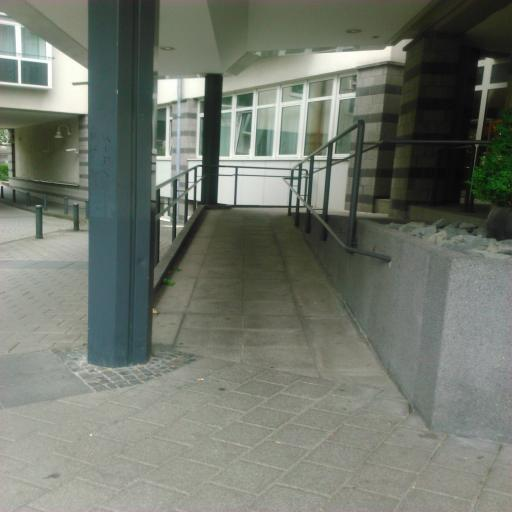ramp: (149, 208, 366, 344)
